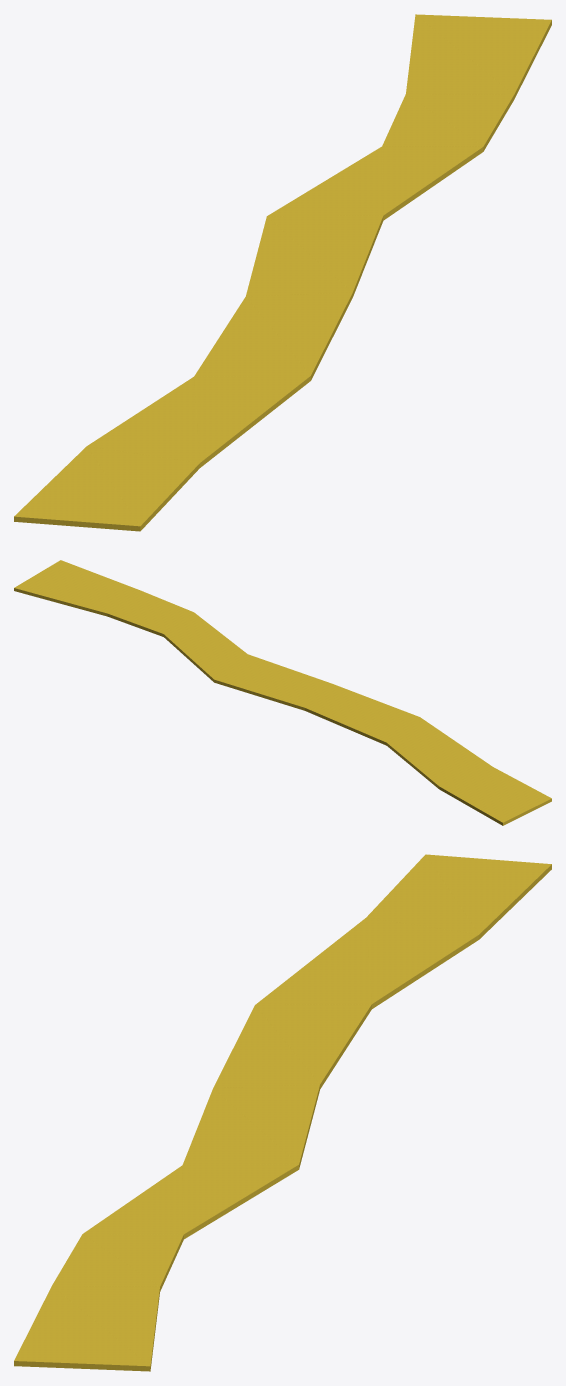
The model's file is LakeTrigger.obj.
3 views of the same model, one above another, from view 1: azimuth 90°, elevation 25°; view 2: azimuth 150°, elevation 25°; view 3: azimuth 270°, elevation 25° (orthographic). The views are drawn at different scales.
Parts seen in each view (by area): view 1: LakeTrigger; view 2: LakeTrigger; view 3: LakeTrigger.
Part boxes in pixels (box(x1,y1,x2,y2)): LakeTrigger: box(14, 14, 551, 531); LakeTrigger: box(14, 560, 551, 825); LakeTrigger: box(14, 854, 551, 1371).
Size of the model in its own units: 211 by 1 by 93.73.
Materials: 1 (1 with a texture image).
